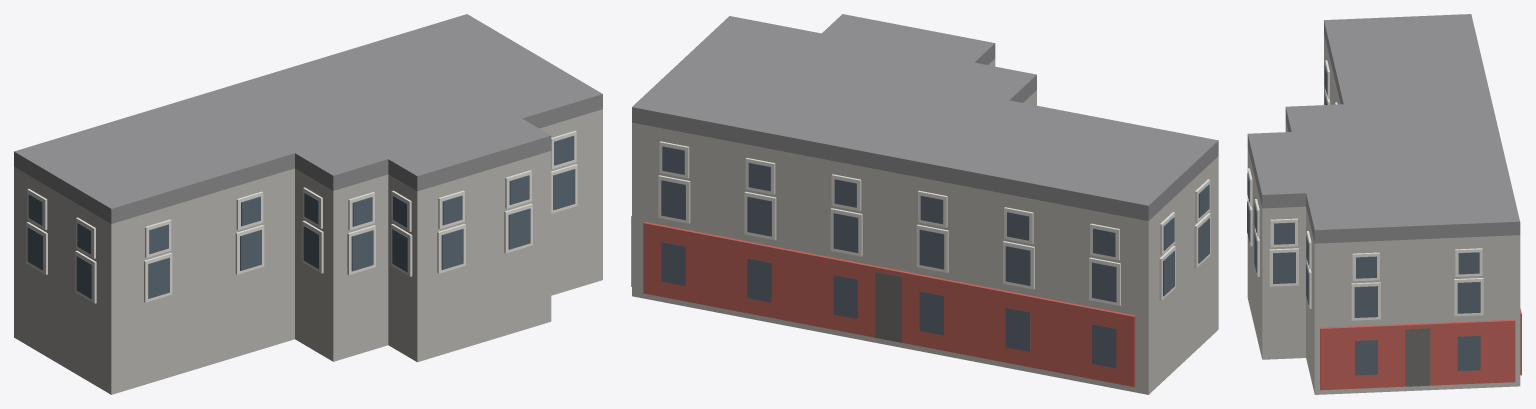
Rendered from cork_detail.glb.
3 views of the same model, side by side, from view 1: azimuth 30°, elevation 25°; view 2: azimuth 150°, elevation 25°; view 3: azimuth 270°, elevation 25° (orthographic). The views are drawn at different scales.
Visible parts, largest first — view 1: mass, roofcap, win_3_0.75_4.5, win_1_0.50_4.5, win_3_0.25_4.5, win_5_0.50_4.5, win_7_0.75_4.5, win_7_0.25_4.5, win_6_0.50_4.5, win_8_0.75_4.5, win_8_0.25_4.5, win_4_0.50_4.5 (+9 smaller); view 2: roofcap, mass, redband_9, reddoor_9, win_9_0.75_1.6, win_9_0.25_1.6, win_9_0.58_1.6, win_9_0.08_1.6, win_9_0.42_1.6, win_9_0.92_1.6, win_9_0.42_4.5, win_9_0.58_4.5 (+16 smaller); view 3: roofcap, mass, redband_0, reddoor_0, win_0_0.75_1.6, win_0_0.25_1.6, win_0_0.25_4.5, win_0_0.75_4.5, win_2_0.50_4.5, win_0_0.75_6.3, wtrim_0_0.75_4.5, win_0_0.25_6.3 (+6 smaller).
Boxes of the visible parts, x1,y1,x2,y2 form: mass: [14, 109, 602, 394]; roofcap: [14, 14, 602, 223]; win_3_0.75_4.5: [508, 208, 530, 249]; win_1_0.50_4.5: [553, 169, 575, 209]; win_3_0.25_4.5: [441, 229, 463, 269]; win_5_0.50_4.5: [351, 230, 373, 271]; win_7_0.75_4.5: [240, 229, 261, 270]; win_7_0.25_4.5: [148, 257, 169, 298]; win_6_0.50_4.5: [303, 225, 319, 269]; win_8_0.75_4.5: [76, 255, 92, 299]; win_8_0.25_4.5: [27, 227, 43, 270]; win_4_0.50_4.5: [392, 229, 408, 272]; roofcap: [632, 14, 1218, 220]; mass: [632, 59, 1218, 394]; redband_9: [643, 222, 1135, 386]; reddoor_9: [875, 272, 901, 342]; win_9_0.75_1.6: [1005, 308, 1030, 351]; win_9_0.25_1.6: [747, 258, 771, 302]; win_9_0.58_1.6: [919, 291, 943, 335]; win_9_0.08_1.6: [661, 242, 685, 285]; win_9_0.42_1.6: [833, 275, 857, 318]; win_9_0.92_1.6: [1092, 324, 1116, 368]; win_9_0.42_4.5: [833, 213, 858, 252]; win_9_0.58_4.5: [919, 229, 944, 269]; roofcap: [1247, 14, 1520, 243]; mass: [1247, 34, 1520, 394]; redband_0: [1320, 319, 1515, 390]; reddoor_0: [1405, 328, 1430, 386]; win_0_0.75_1.6: [1457, 335, 1480, 371]; win_0_0.25_1.6: [1355, 340, 1377, 375]; win_0_0.25_4.5: [1354, 286, 1377, 317]; win_0_0.75_4.5: [1457, 281, 1480, 313]; win_2_0.50_4.5: [1273, 252, 1295, 283]; win_0_0.75_6.3: [1458, 252, 1479, 274]; wtrim_0_0.75_4.5: [1454, 278, 1483, 316]; win_0_0.25_6.3: [1356, 256, 1376, 278].
Bounding box in the file's own units: 24.36 × 8.6 × 13.
